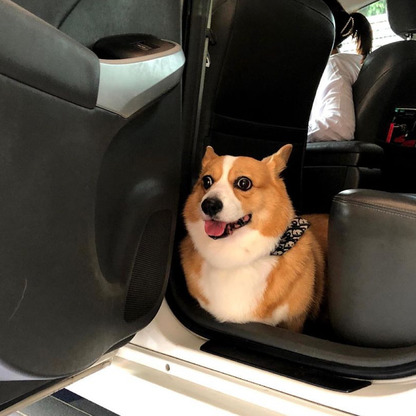Corgi: (181, 136, 348, 335)
